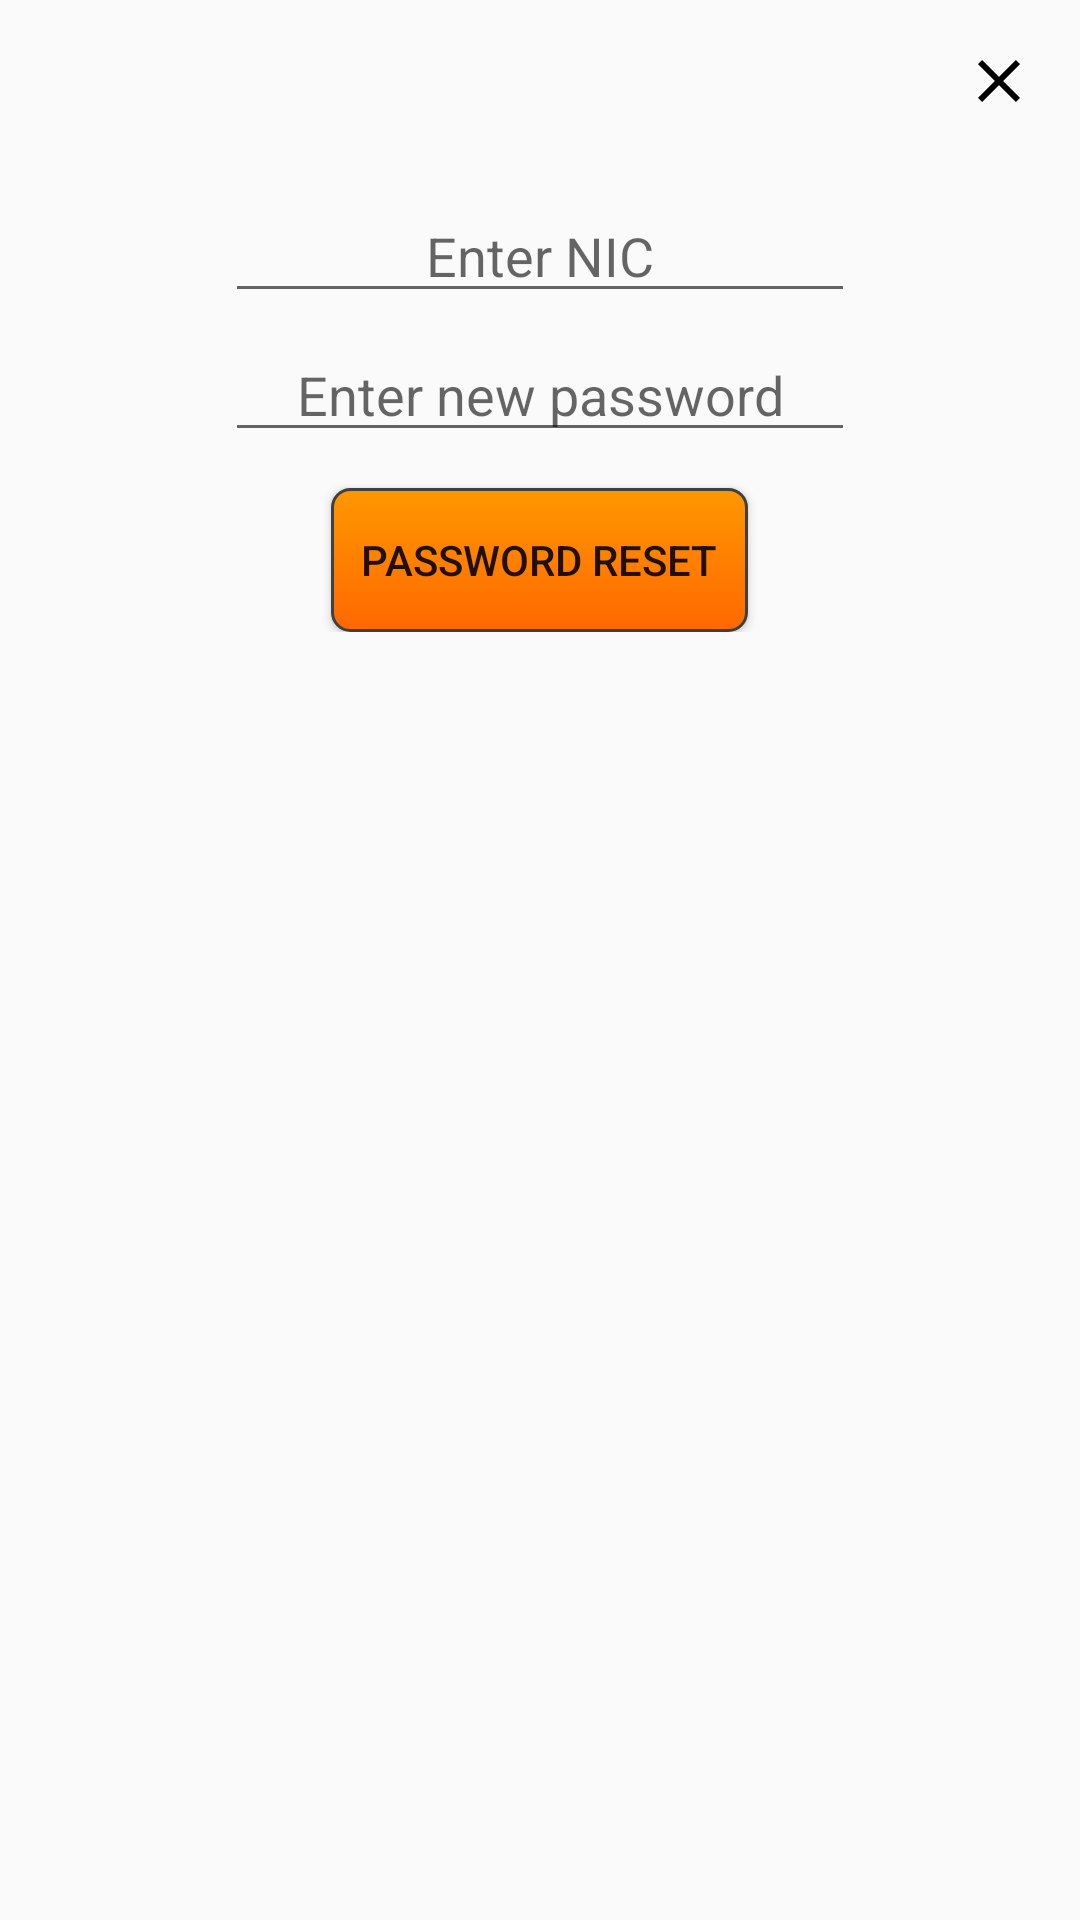

Locate icon controls on the screen. Image size 1080px×1920px, boxes as (x1, y1, x2, y2).
close: (978, 60, 1020, 102)
